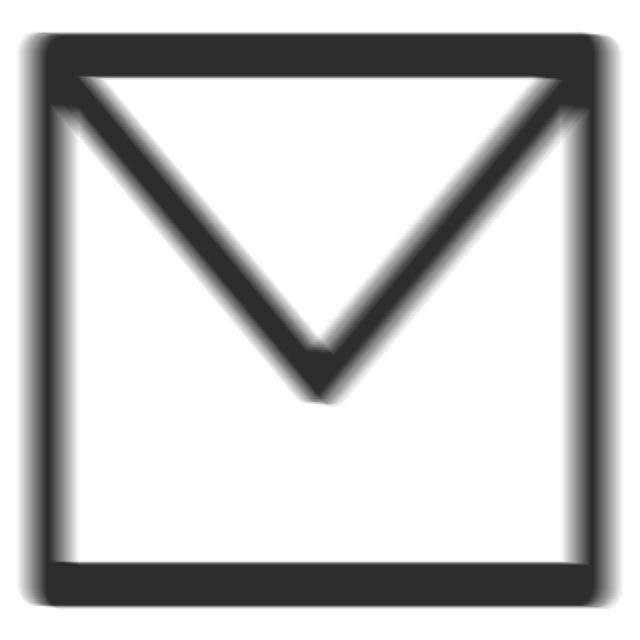letter: (11, 22, 628, 622)
